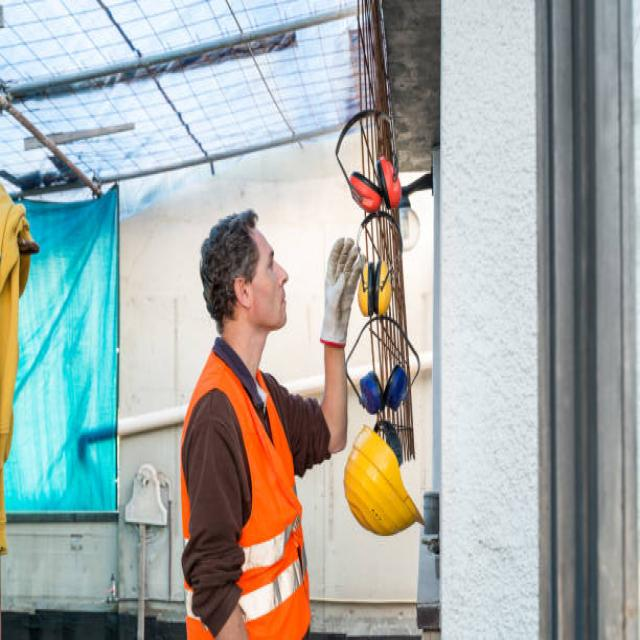gloves: (321, 238, 366, 345)
